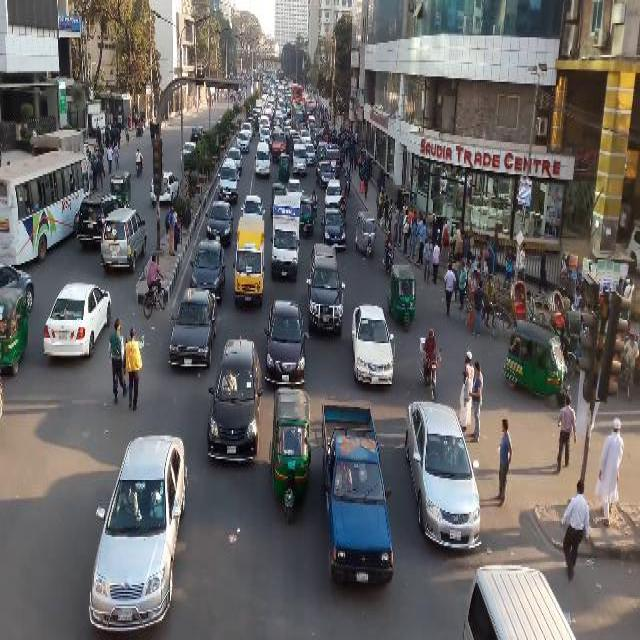10: (418, 325, 440, 400), (380, 230, 396, 276), (134, 145, 142, 179)
11: (321, 401, 395, 580), (270, 191, 300, 282), (254, 98, 264, 108)
13: (460, 265, 500, 339), (503, 279, 541, 333), (545, 288, 569, 334)
15: (207, 333, 261, 467), (76, 188, 128, 249), (150, 170, 178, 203)
17: (267, 381, 313, 529), (500, 318, 572, 404), (0, 283, 31, 375), (387, 262, 417, 332), (354, 209, 376, 260), (109, 169, 131, 204), (300, 196, 314, 238), (268, 182, 286, 214), (278, 151, 290, 180), (246, 117, 254, 135)
18: (270, 128, 288, 164)
19: (458, 562, 580, 636), (253, 140, 270, 176), (291, 140, 307, 176), (286, 176, 304, 197), (306, 114, 316, 128), (274, 110, 282, 126), (252, 107, 260, 121), (263, 108, 271, 120)
5: (87, 430, 187, 633), (404, 395, 482, 551), (40, 278, 111, 358), (264, 299, 308, 391), (204, 198, 232, 243), (321, 207, 345, 246), (240, 193, 266, 219), (314, 158, 336, 187), (180, 140, 196, 159), (234, 131, 250, 150), (189, 124, 203, 142), (256, 126, 270, 144), (299, 129, 311, 141), (278, 107, 286, 117), (232, 100, 240, 110)
7: (232, 215, 264, 308)
9: (306, 241, 344, 331), (99, 208, 147, 272), (216, 157, 238, 202), (323, 179, 343, 209), (256, 113, 270, 132), (240, 122, 252, 138)
Ambulance: (324, 142, 340, 174)
Bus: (29, 128, 92, 178)
Truck: (0, 150, 93, 270), (290, 98, 306, 130), (304, 93, 316, 120), (291, 83, 303, 102), (275, 82, 283, 96)
